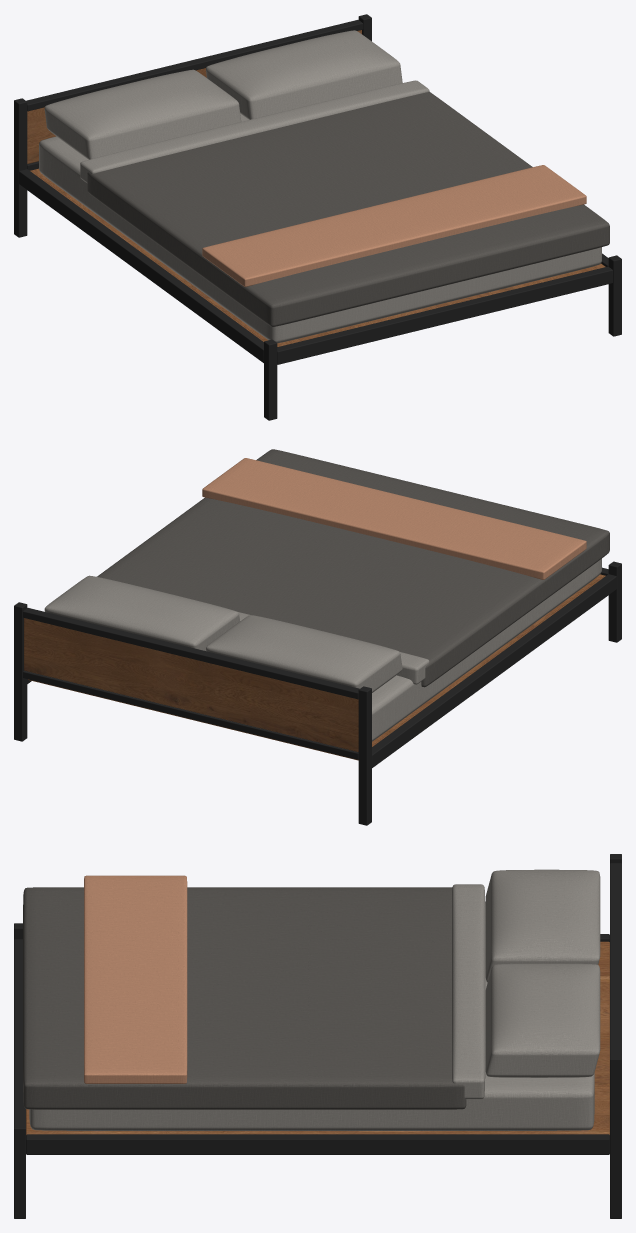
The picture shows the model from 3 angles, top to bottom: view 1: azimuth 30°, elevation 25°; view 2: azimuth 150°, elevation 25°; view 3: azimuth 270°, elevation 25°; orthographic projection. The views are drawn at different scales.
Visible parts, largest first — view 1: Duvet, Folded throw, Mattress, Pillow 1, Pillow 2, Foot rail, Turned-down sheet, Left rail, Head rail 2, Base deck, Steel post LB, Steel post LF (+2 smaller); view 2: Duvet, Reclaimed oak headboard, Folded throw, Pillow 1, Pillow 2, Left rail, Mattress, Head rail 2, Head rail 1, Steel post LB, Base deck, Steel post RB (+2 smaller); view 3: Duvet, Folded throw, Mattress, Pillow 2, Right rail, Pillow 1, Turned-down sheet, Base deck, Head rail 2, Steel post RB, Foot rail, Steel post RF.
Part boxes in pixels (<box>): Duvet: <box>87,92,609,326</box>; Folded throw: <box>202,165,586,286</box>; Mattress: <box>39,114,601,343</box>; Pillow 1: <box>44,69,241,159</box>; Pillow 2: <box>206,30,402,119</box>; Foot rail: <box>277,266,612,364</box>; Turned-down sheet: <box>80,80,429,182</box>; Left rail: <box>19,169,263,362</box>; Head rail 2: <box>26,20,363,111</box>; Base deck: <box>30,168,605,346</box>; Steel post LB: <box>14,98,27,237</box>; Steel post LF: <box>264,339,277,420</box>; Duvet: <box>97,449,609,687</box>; Reclaimed oak headboard: <box>24,618,358,751</box>; Folded throw: <box>202,458,586,579</box>; Pillow 1: <box>206,615,402,692</box>; Pillow 2: <box>44,575,239,650</box>; Left rail: <box>372,574,616,767</box>; Mattress: <box>372,558,601,741</box>; Head rail 2: <box>23,608,359,699</box>; Head rail 1: <box>23,670,358,759</box>; Steel post LB: <box>358,686,371,825</box>; Base deck: <box>28,574,605,760</box>; Steel post RB: <box>14,602,27,741</box>; Duvet: <box>23,887,466,1109</box>; Folded throw: <box>84,875,187,1083</box>; Mattress: <box>29,902,594,1130</box>; Pillow 2: <box>485,963,600,1077</box>; Right rail: <box>26,1134,609,1154</box>; Pillow 1: <box>485,869,600,982</box>; Turned-down sheet: <box>452,884,485,1099</box>; Base deck: <box>26,941,609,1134</box>; Head rail 2: <box>610,863,621,1054</box>; Steel post RB: <box>610,1054,621,1218</box>; Foot rail: <box>14,939,25,1123</box>; Steel post RF: <box>14,1123,25,1218</box>.
Bounding box in the file's own units: 1.6 × 0.6 × 2.
5 materials, 4 textured.
